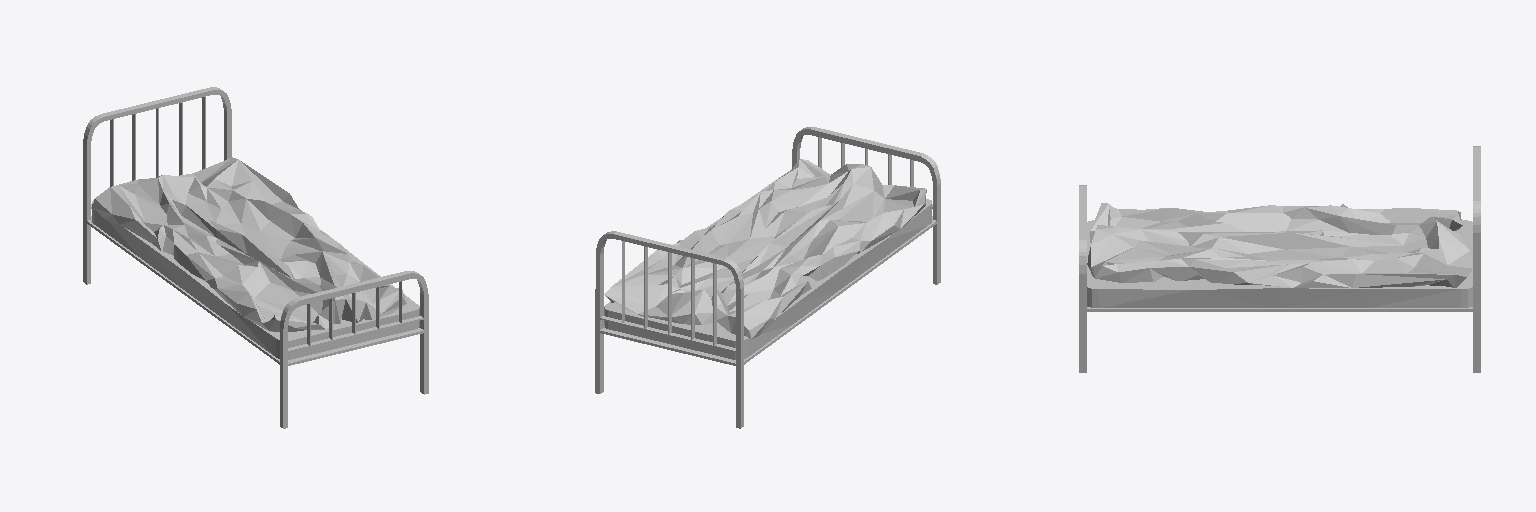
The model's file is Bed01b.obj.
3 views of the same model, side by side, from view 1: azimuth 30°, elevation 25°; view 2: azimuth 150°, elevation 25°; view 3: azimuth 270°, elevation 25° (orthographic).
Visible parts, largest first — view 1: Bed01b_LOD0_Bed01_LOD0.001; view 2: Bed01b_LOD0_Bed01_LOD0.001; view 3: Bed01b_LOD0_Bed01_LOD0.001.
Boxes of the visible parts, x1=… form: Bed01b_LOD0_Bed01_LOD0.001: x1=83, y1=87, x2=428, y2=428; Bed01b_LOD0_Bed01_LOD0.001: x1=595, y1=127, x2=940, y2=428; Bed01b_LOD0_Bed01_LOD0.001: x1=1079, y1=146, x2=1480, y2=372.
Bounding box in the file's own units: 0.9083 × 0.9474 × 2.1.